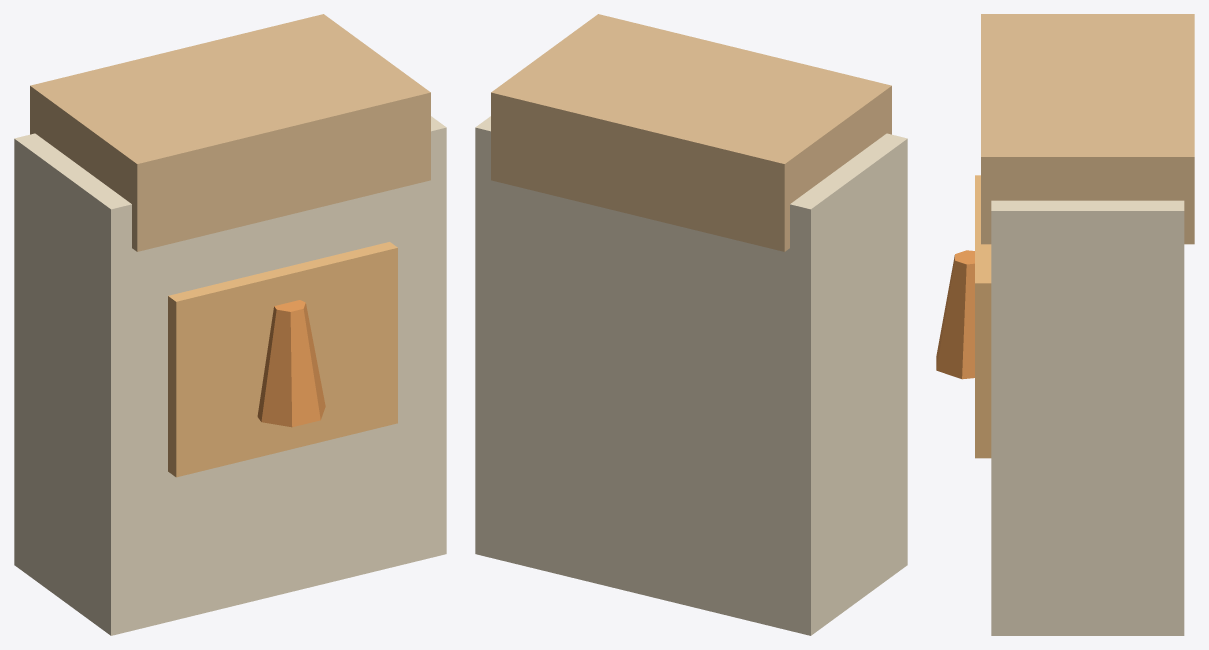
File: seed_carrot.glb
3 renders of one model, left to right at view 1: azimuth 30°, elevation 25°; view 2: azimuth 150°, elevation 25°; view 3: azimuth 270°, elevation 25°, orthographic.
Visible parts, largest first — view 1: folded cloth seed bag.001, bag folded top.001, colored seed label.001, carrot on label; view 2: folded cloth seed bag.001, bag folded top.001; view 3: folded cloth seed bag.001, bag folded top.001, colored seed label.001, carrot on label.
Part boxes in pixels (<box>): folded cloth seed bag.001: <box>14,116,446,635</box>; bag folded top.001: <box>30,14,430,251</box>; colored seed label.001: <box>168,242,397,477</box>; carrot on label: <box>257,300,325,427</box>; folded cloth seed bag.001: <box>475,116,907,635</box>; bag folded top.001: <box>491,14,891,251</box>; folded cloth seed bag.001: <box>991,200,1184,635</box>; bag folded top.001: <box>981,14,1194,244</box>; colored seed label.001: <box>975,175,991,458</box>; carrot on label: <box>936,250,974,379</box>.
Size of the model in its own units: 0.56 by 0.75 by 0.3746.
